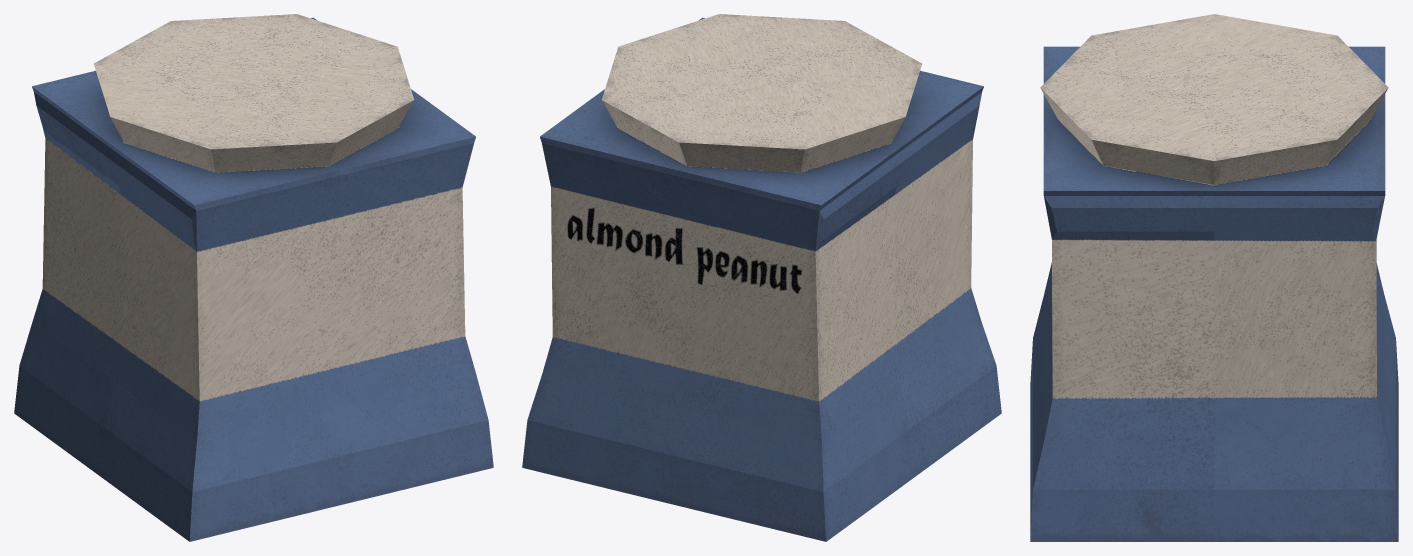
The model's file is Peanuts_small.fbx.
3 views of the same model, side by side, from view 1: azimuth 30°, elevation 25°; view 2: azimuth 150°, elevation 25°; view 3: azimuth 270°, elevation 25° (orthographic). The views are drawn at different scales.
Visible parts, largest first — view 1: peanuts; view 2: peanuts; view 3: peanuts.
Part boxes in pixels (x1,y1,x2,y2): peanuts: (14,14,493,541); peanuts: (522,14,1001,541); peanuts: (1030,14,1398,541).
Bounding box in the file's own units: 216 × 243 × 216.
1 material, 1 textured.
